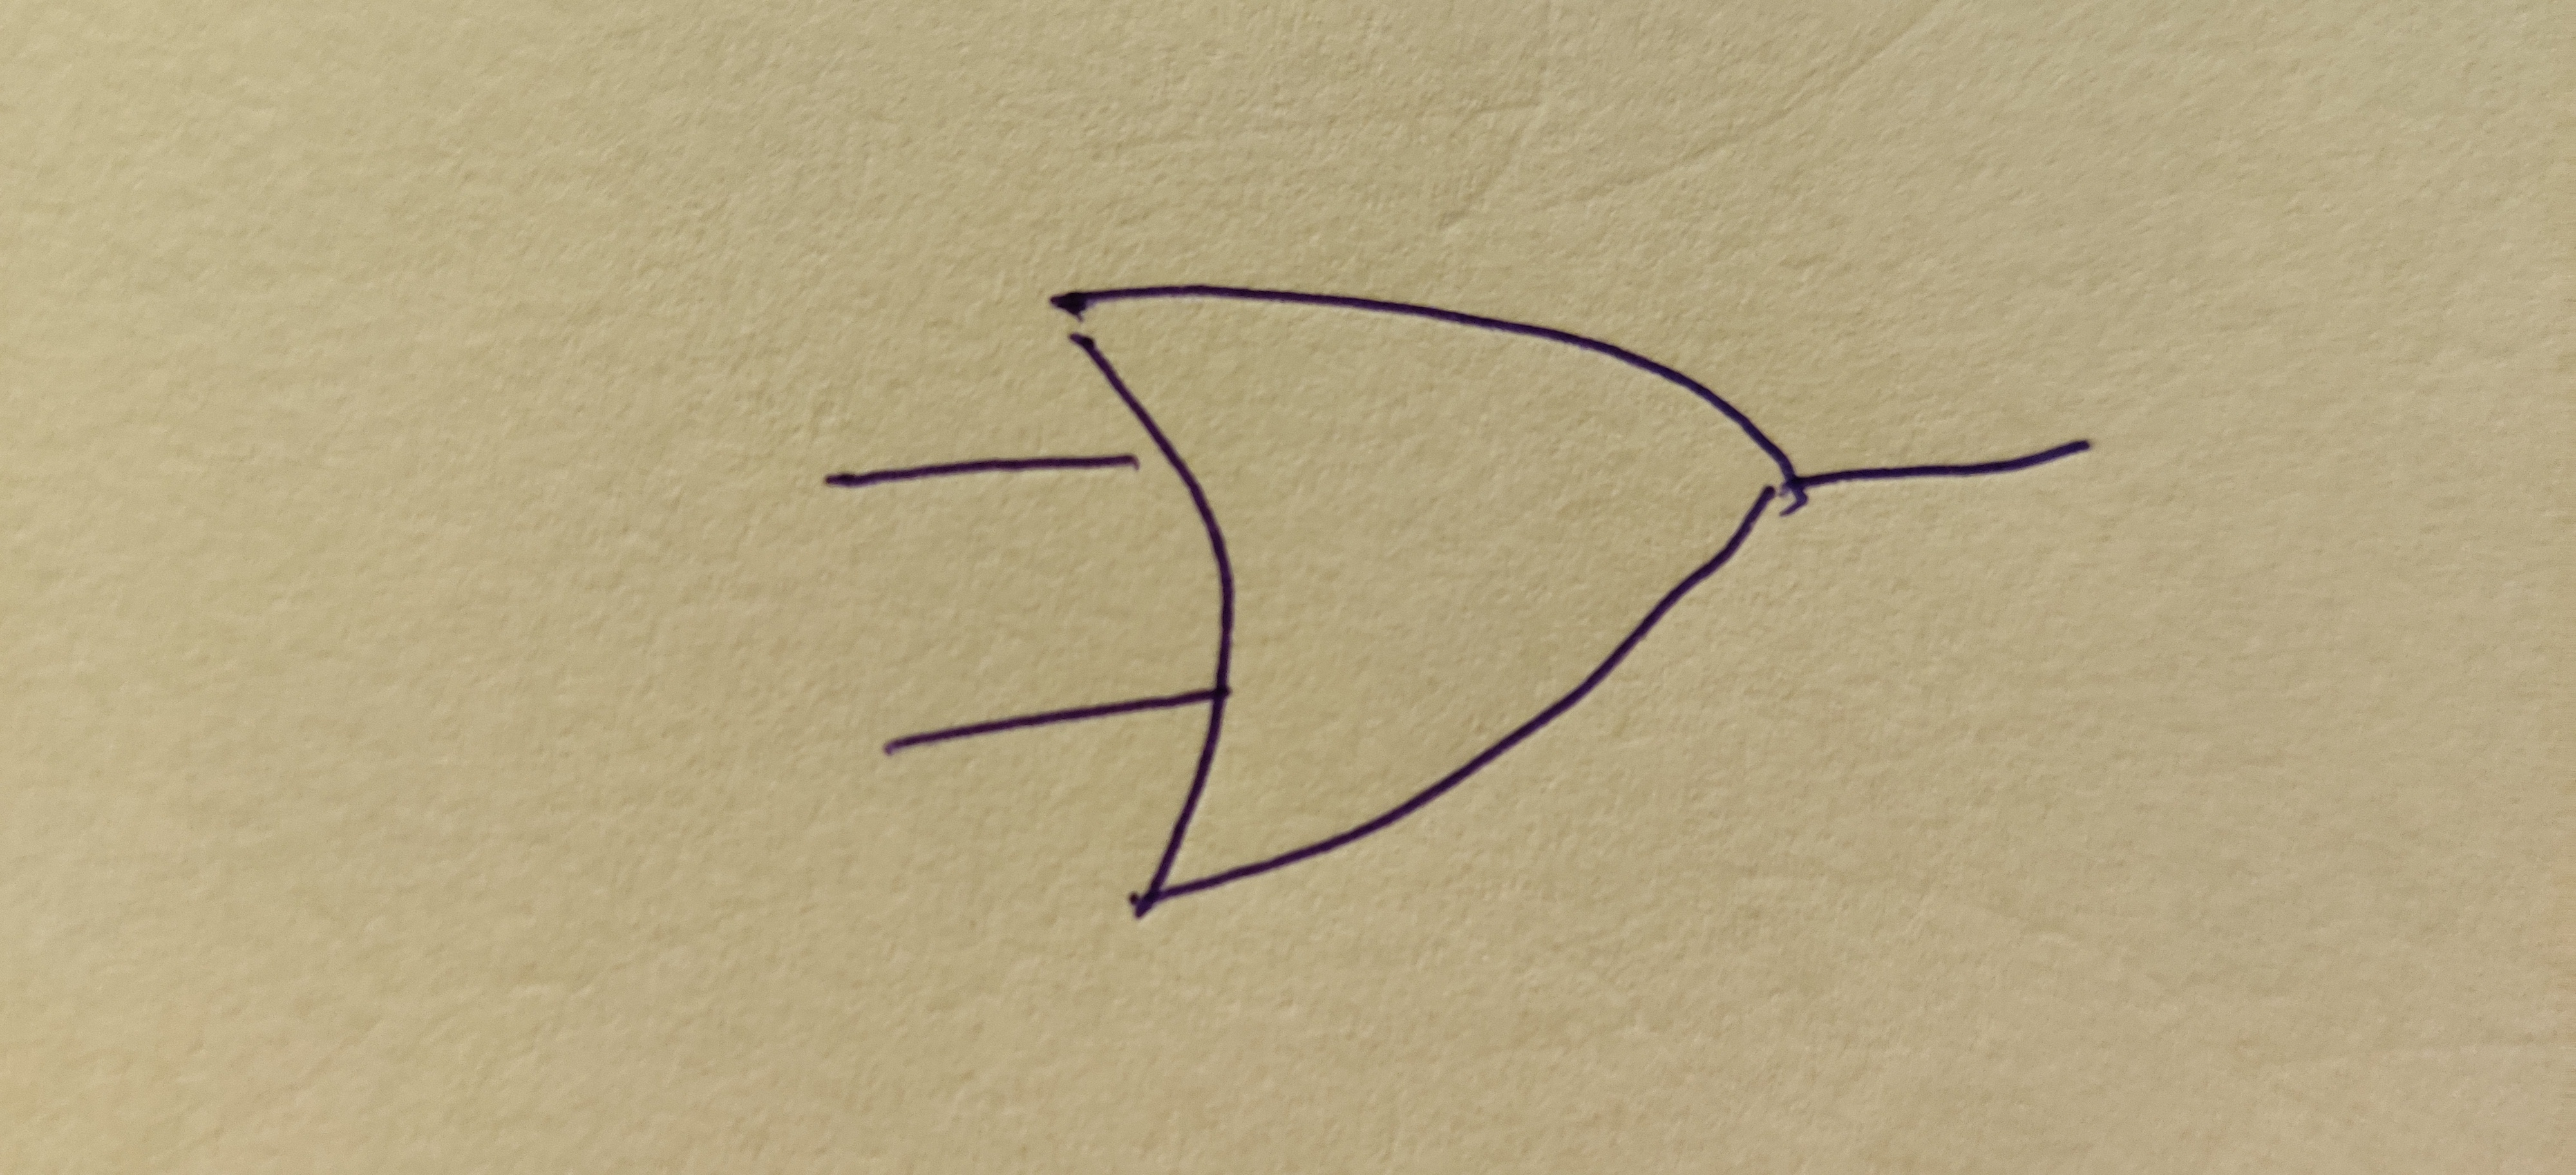or: (1061, 276, 1801, 901)
